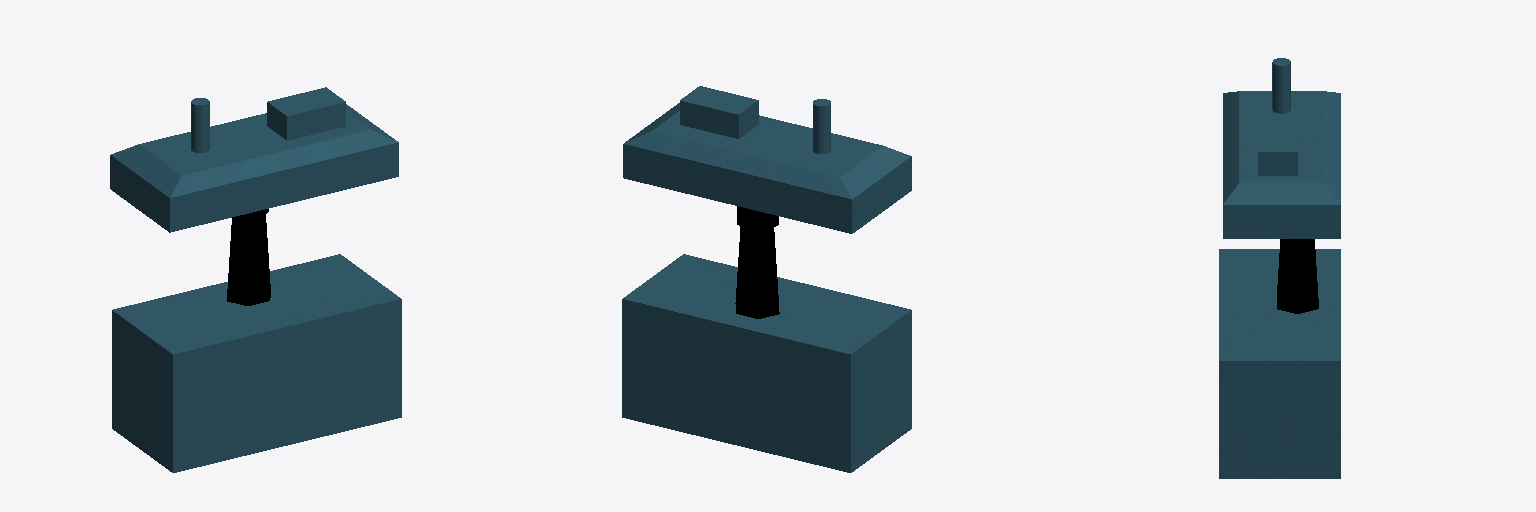
The picture shows the model from 3 angles: view 1: azimuth 30°, elevation 25°; view 2: azimuth 150°, elevation 25°; view 3: azimuth 270°, elevation 25°; orthographic projection.
Visible parts, largest first — view 1: pasted__polySurface38; view 2: pasted__polySurface38; view 3: pasted__polySurface38.
Part boxes in pixels (x1,y1,x2,y2): pasted__polySurface38: (110,87,401,472); pasted__polySurface38: (622,86,911,472); pasted__polySurface38: (1219,58,1340,478).
Size of the model in its own units: 1.01 by 1.41 by 0.4666.
1 materials, 1 textured.